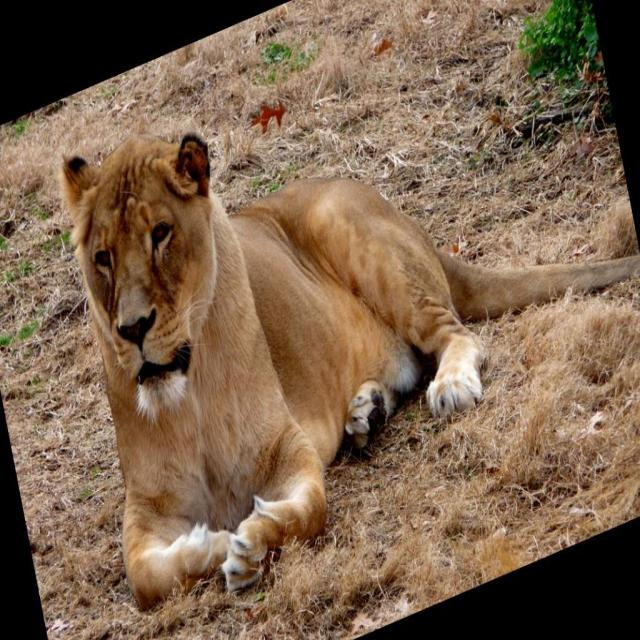Lion: (46, 0, 639, 634)
